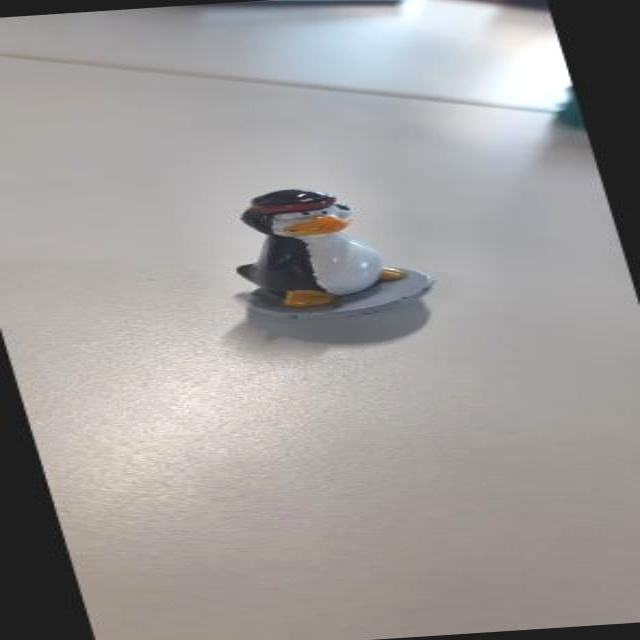Penguin: (187, 172, 447, 339)
